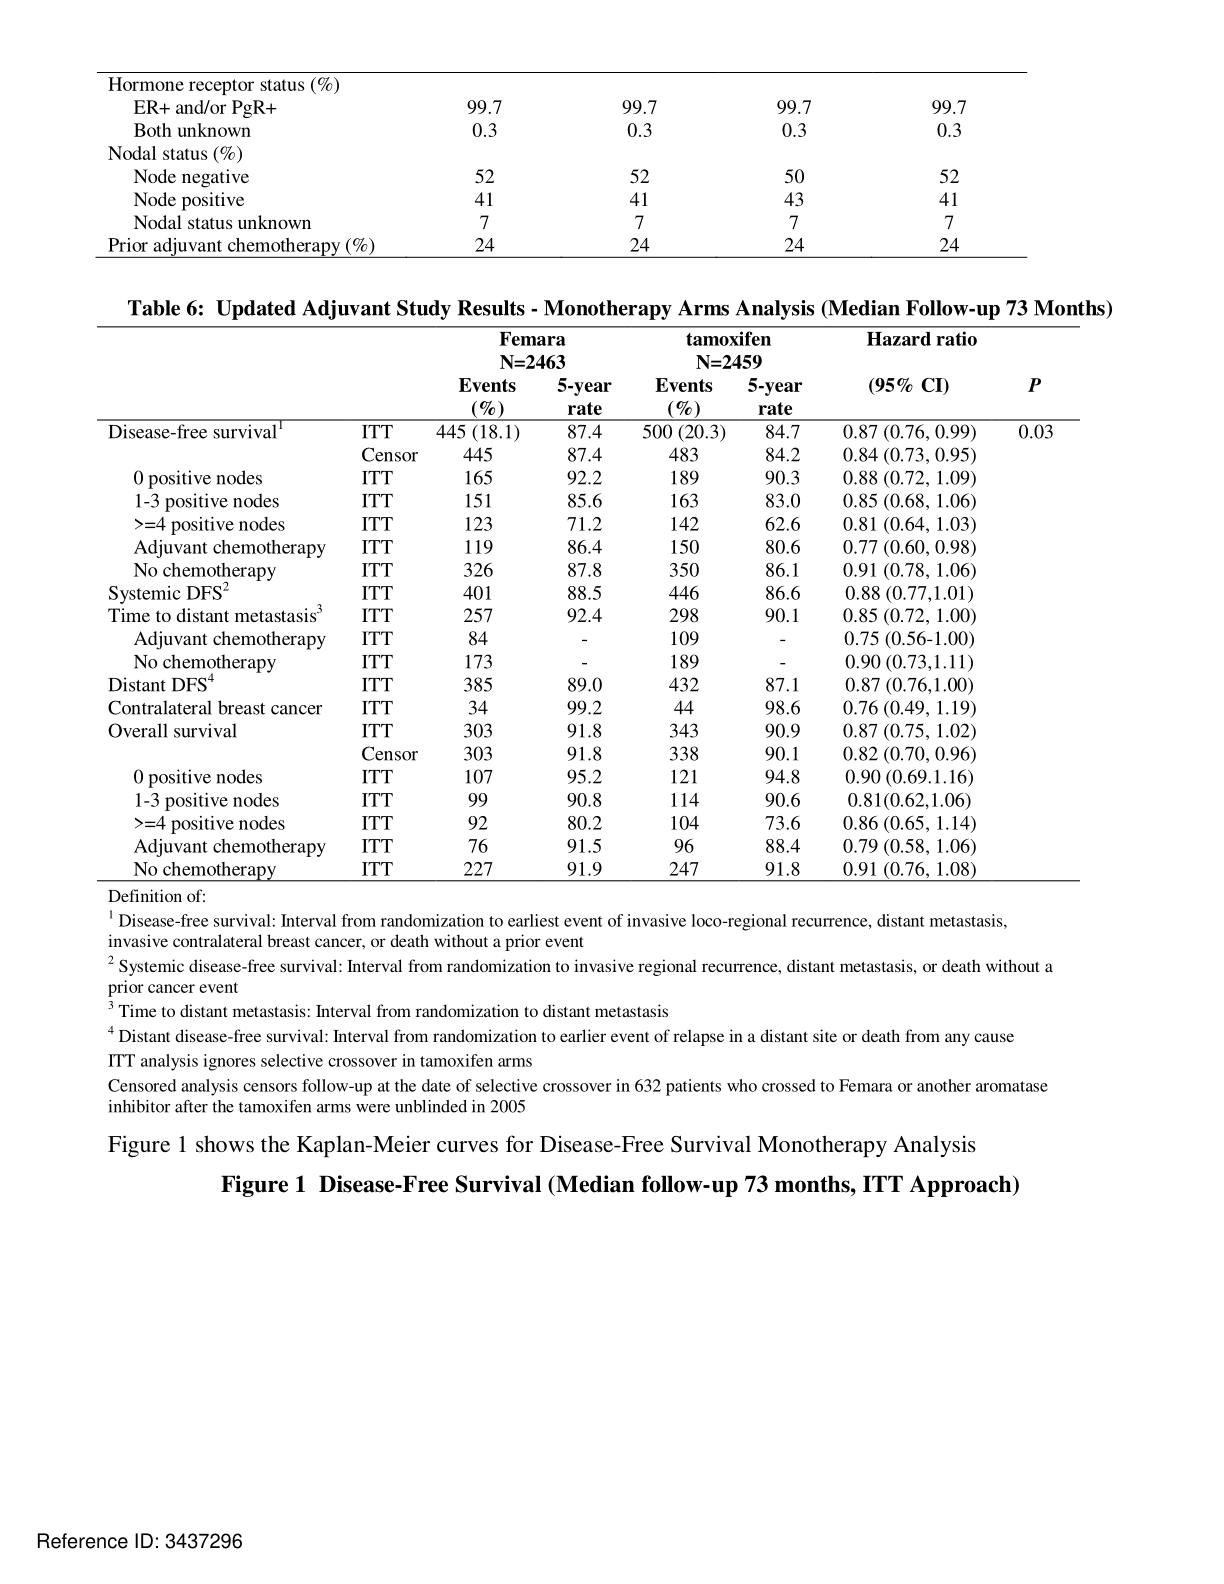partial_lined: (95, 71, 1029, 258)
partial_lined_merged_cells: (95, 327, 1081, 883)
